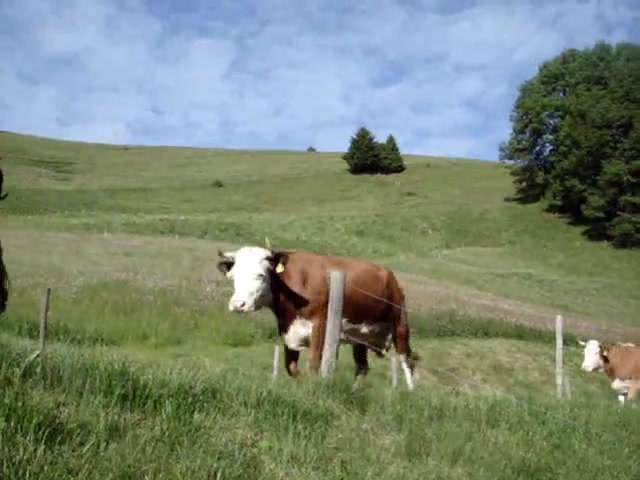cow: (220, 244, 419, 395)
